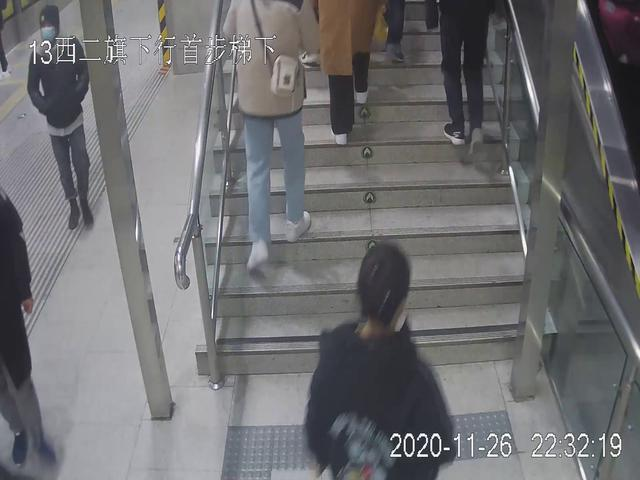person: (301, 238, 461, 480), (215, 1, 329, 280), (22, 2, 100, 227)
